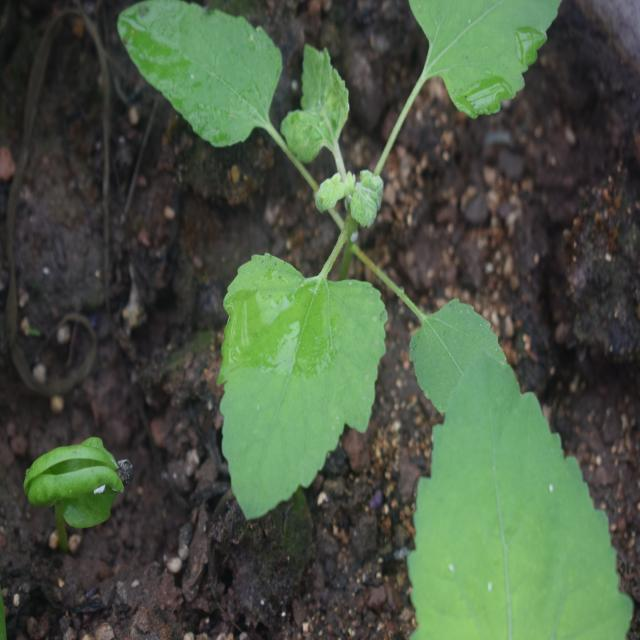cocklebur: (86, 0, 518, 448)
